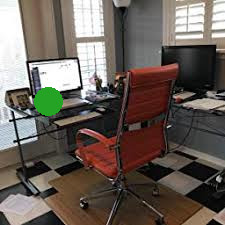focus: (28, 83, 69, 125)
